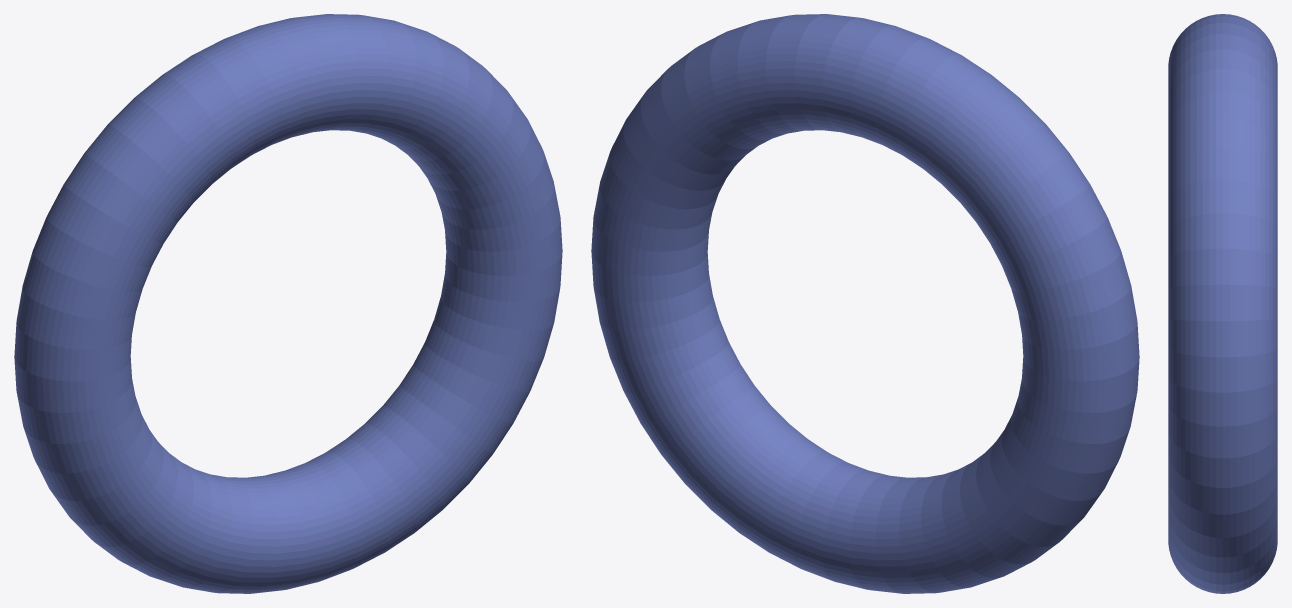
3 renders of one model, left to right at view 1: azimuth 30°, elevation 25°; view 2: azimuth 150°, elevation 25°; view 3: azimuth 270°, elevation 25°, orthographic. The views are drawn at different scales.
Visible parts, largest first — view 1: world; view 2: world; view 3: world.
Part boxes in pixels (bbox=[...]): world: bbox=[14, 14, 562, 593]; world: bbox=[591, 14, 1139, 593]; world: bbox=[1168, 14, 1277, 593].
Size of the model in its own units: 14.8 by 14.77 by 2.79.
